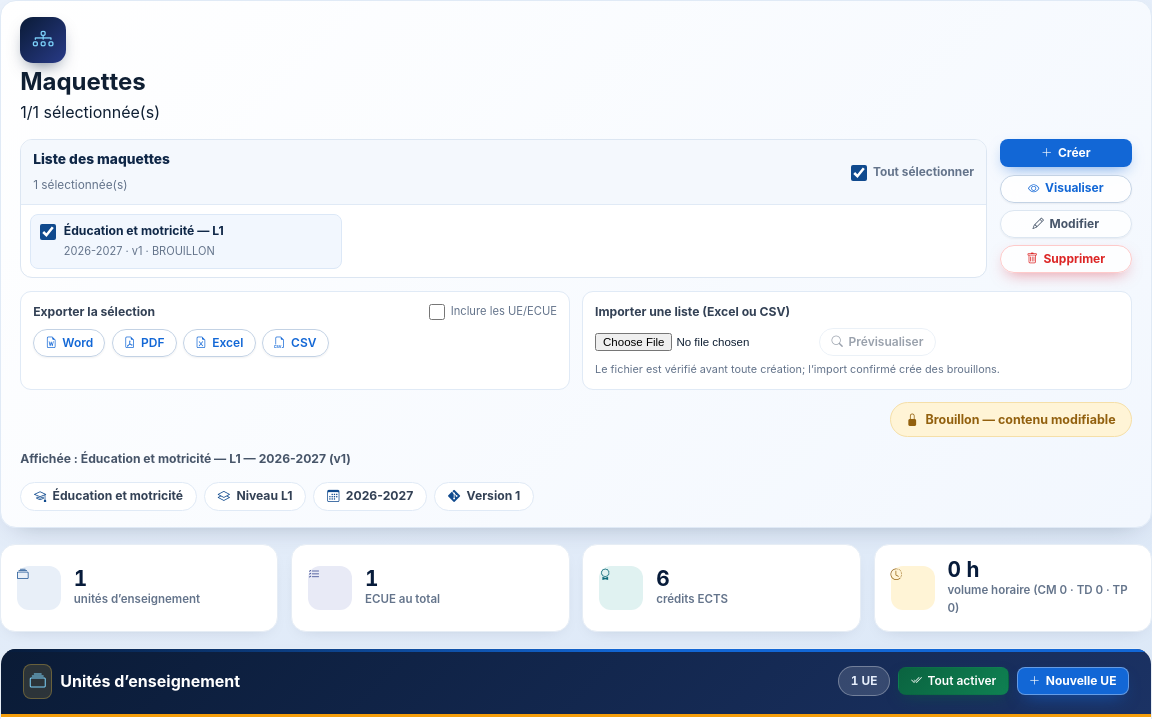
Test: création › affiche le refus du serveur dans le formulaire, sans perdre la saisie
The width and height of the screenshot is (1152, 719).
Click the button with test id "nouvelle-ue".
click(1073, 681)  # box x1=1017 y1=667 x2=1129 y2=695
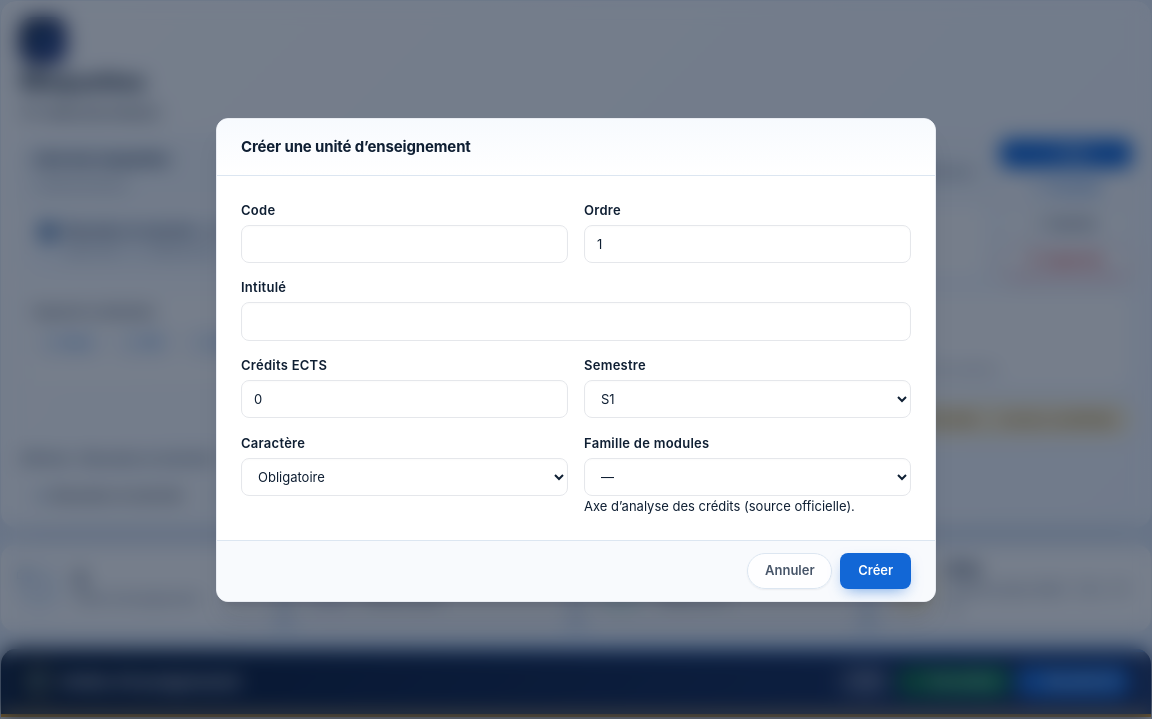
Type "EM-S1-UE01" into the field with test id "element-code".
click(404, 244); type("EM-S1-UE01")  # box x1=241 y1=225 x2=568 y2=263
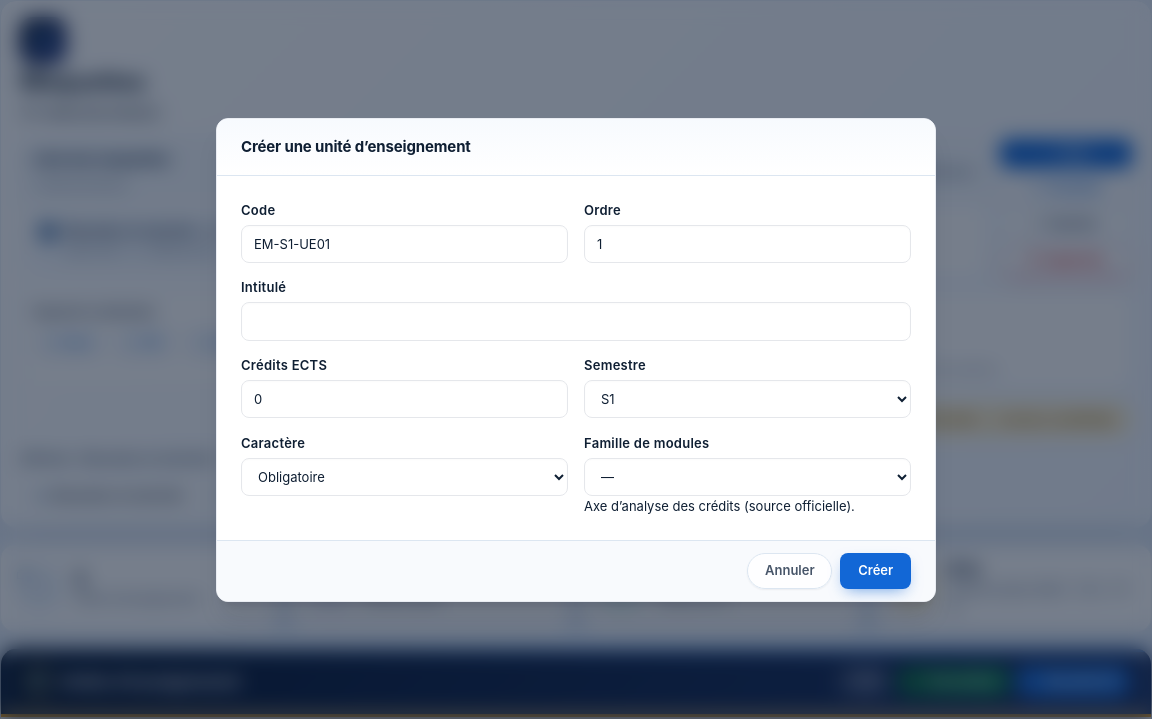
Type "Doublon" into the field with test id "element-intitule".
click(576, 322); type("Doublon")  # box x1=241 y1=302 x2=911 y2=341
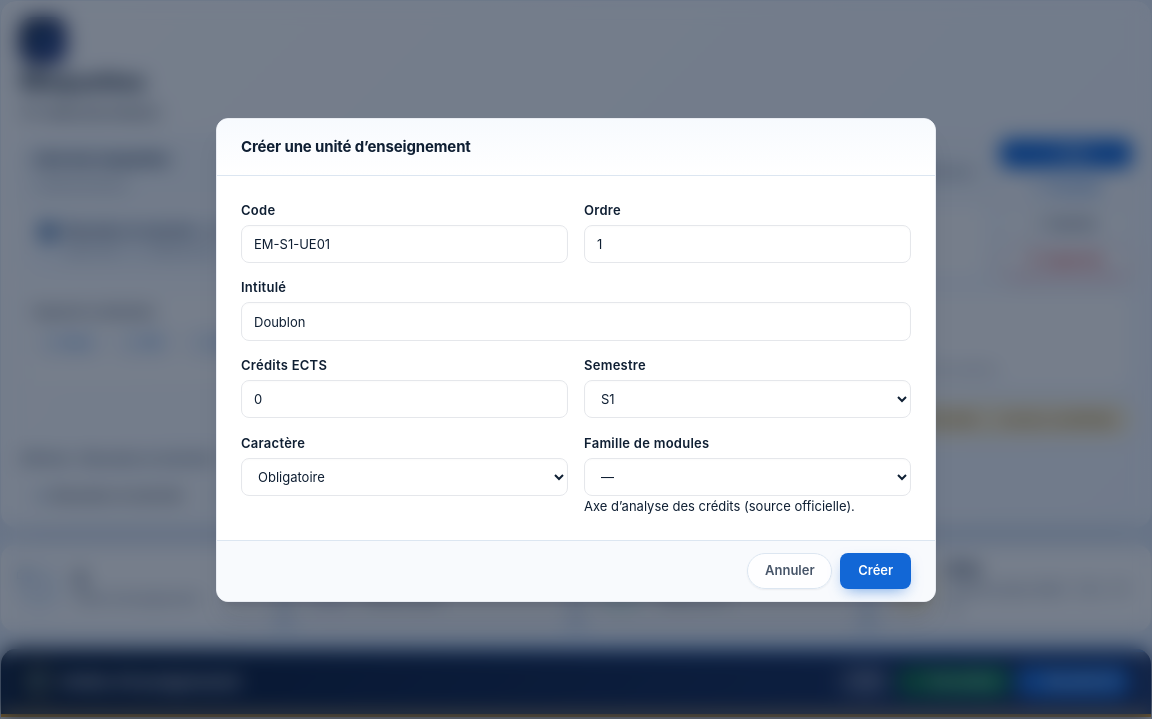
Submit the form with test id "formulaire-element", box x1=217 y1=176 x2=935 y2=600
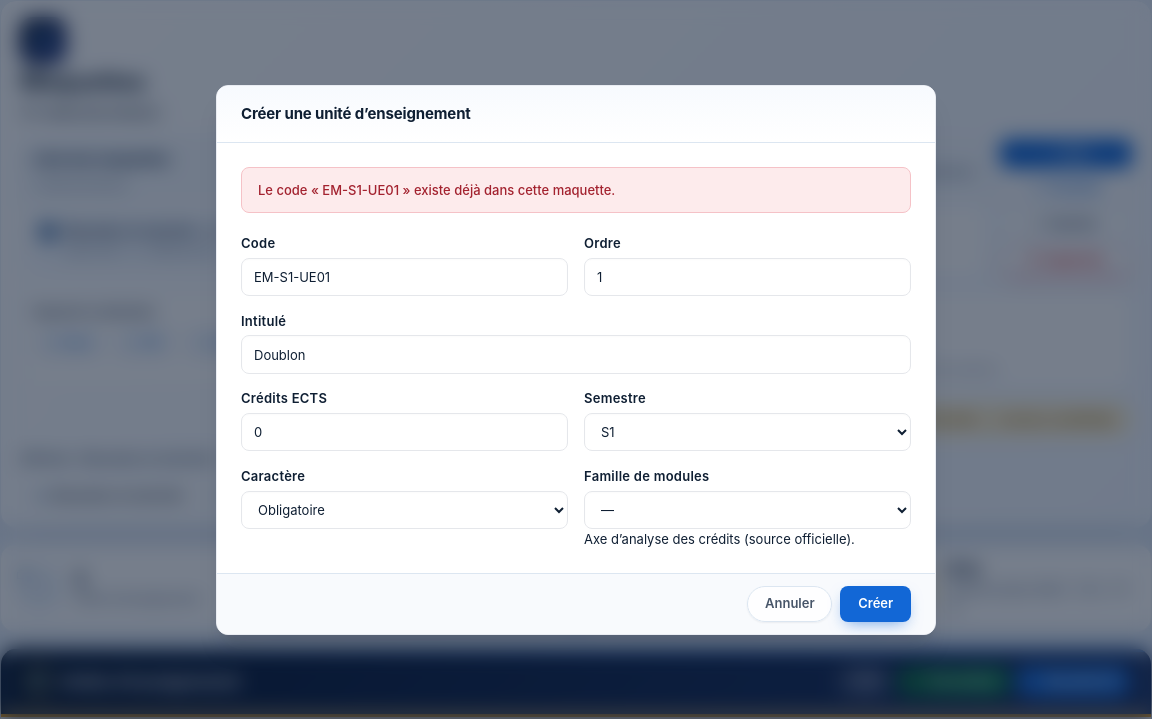
Expected: the message with test id "element-erreur" shows "existe déjà dans cette maquette", x1=258 y1=182 x2=615 y2=198
